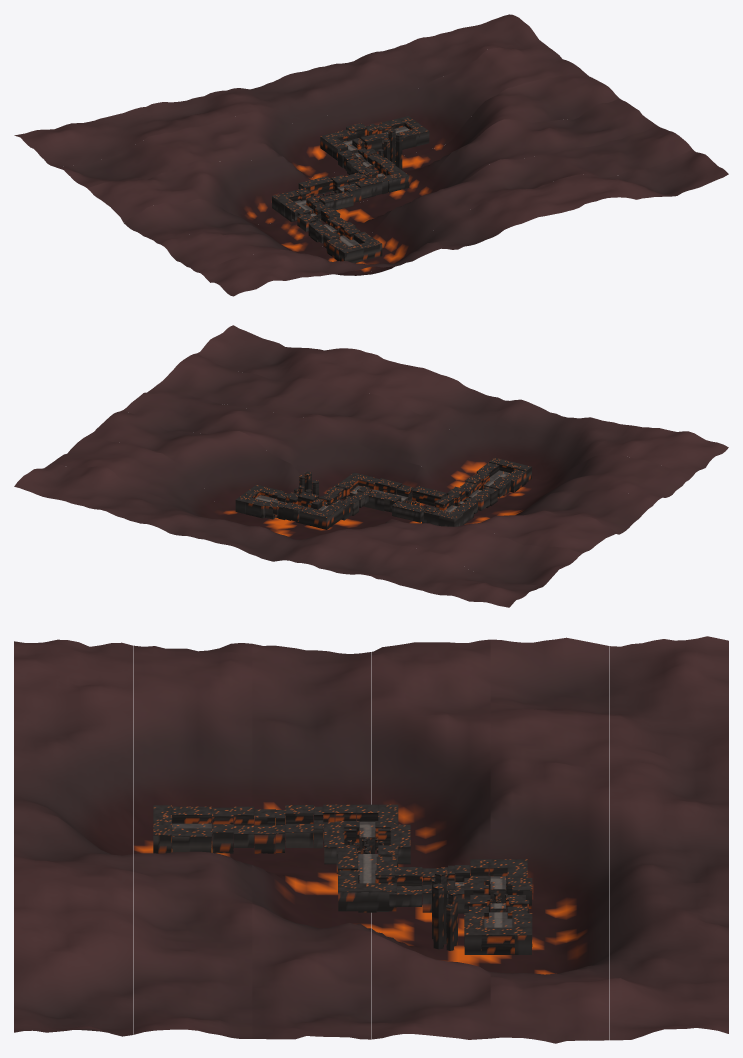
File: basalt_columns_terrain.glb
The picture shows the model from 3 angles, top to bottom: view 1: azimuth 30°, elevation 25°; view 2: azimuth 150°, elevation 25°; view 3: azimuth 270°, elevation 25°; orthographic projection. The views are drawn at different scales.
Parts seen in each view (by area): view 1: backdrop_5, backdrop_4, backdrop_3, backdrop_1, backdrop_2, backdrop_0, terrain_J, terrain_E, terrain_I, terrain_A, terrain_G, terrain_C (+4 smaller); view 2: backdrop_0, backdrop_1, backdrop_5, backdrop_2, backdrop_3, backdrop_4, terrain_I, terrain_E, terrain_J, terrain_G, terrain_A, terrain_C (+4 smaller); view 3: backdrop_5, backdrop_0, backdrop_4, backdrop_1, backdrop_2, backdrop_3, terrain_J, terrain_G, terrain_I, terrain_C, terrain_B, terrain_A (+4 smaller).
Boxes of the visible parts, <box> form: backdrop_5: <box>14,14,545,166</box>; backdrop_4: <box>51,45,582,188</box>; backdrop_3: <box>87,71,618,225</box>; backdrop_1: <box>160,125,691,275</box>; backdrop_2: <box>124,98,655,251</box>; backdrop_0: <box>197,149,728,296</box>; terrain_J: <box>378,116,429,173</box>; terrain_E: <box>298,175,361,210</box>; terrain_I: <box>320,123,395,156</box>; terrain_A: <box>326,231,382,262</box>; terrain_G: <box>347,153,409,194</box>; terrain_C: <box>285,197,340,236</box>; backdrop_0: <box>197,325,728,480</box>; backdrop_1: <box>160,353,691,509</box>; backdrop_5: <box>14,463,545,607</box>; backdrop_2: <box>124,382,655,534</box>; backdrop_3: <box>87,410,618,553</box>; backdrop_4: <box>51,436,582,584</box>; terrain_I: <box>265,491,338,529</box>; terrain_E: <box>384,485,446,522</box>; terrain_J: <box>235,471,318,518</box>; terrain_G: <box>324,472,373,515</box>; terrain_A: <box>476,457,531,492</box>; terrain_C: <box>434,486,490,521</box>; backdrop_5: <box>610,636,728,1040</box>; backdrop_0: <box>14,639,132,1036</box>; backdrop_4: <box>490,637,609,1043</box>; backdrop_1: <box>133,643,252,1038</box>; backdrop_2: <box>252,644,371,1039</box>; backdrop_3: <box>371,639,490,1039</box>; terrain_J: <box>431,869,532,954</box>; terrain_G: <box>338,867,440,912</box>; terrain_I: <box>464,859,532,918</box>; terrain_C: <box>276,804,356,852</box>; terrain_B: <box>212,806,275,853</box>; terrain_A: <box>153,805,211,853</box>.
Size of the model in its own units: 602 by 65.2 by 462.
